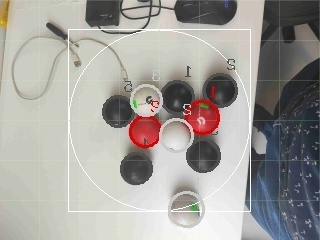Pelota blanca: (10, 35, 65, 100), (168, 191, 207, 228), (160, 117, 193, 153), (130, 83, 163, 117)
Pelota negra: (278, 57, 320, 240), (174, 0, 239, 27), (201, 73, 239, 108), (186, 137, 221, 174), (120, 151, 155, 186), (161, 79, 195, 114), (101, 95, 135, 129)
Pelota roja: (184, 97, 221, 136), (128, 115, 161, 148)
